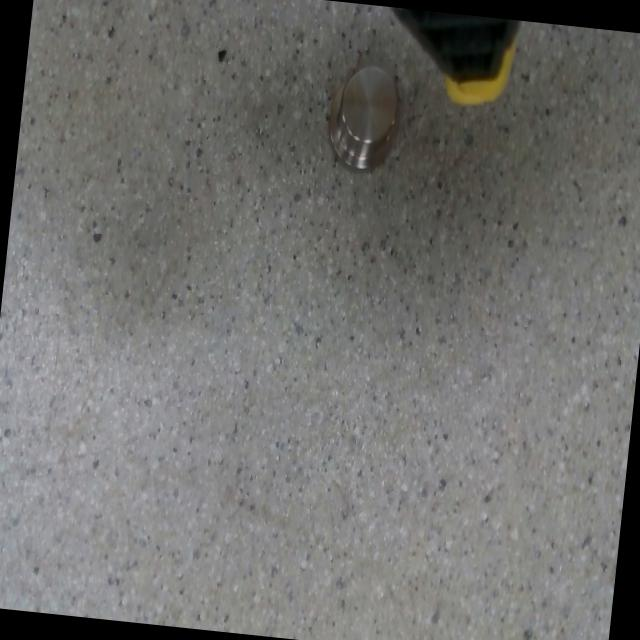sensor: (322, 58, 406, 175)
